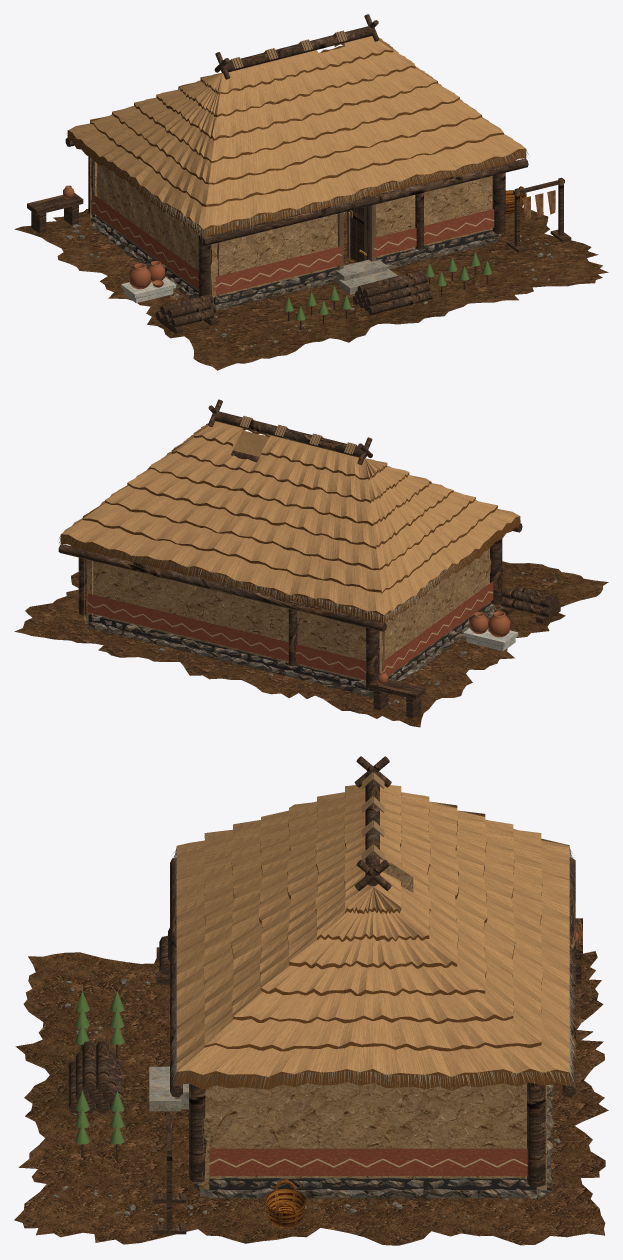
File: forester.glb
The picture shows the model from 3 angles, top to bottom: view 1: azimuth 30°, elevation 25°; view 2: azimuth 150°, elevation 25°; view 3: azimuth 270°, elevation 25°; orthographic projection. The views are drawn at different scales.
Parts seen in each view (by area): view 1: part_20, part_1, part_8, part_5, part_21, part_24, part_4, part_22, part_23, part_25, part_18, part_6 (+4 smaller); view 2: part_20, part_1, part_5, part_8, part_21, part_24, part_4, part_22, part_23, part_15, part_7, part_16; view 3: part_20, part_1, part_5, part_8, part_21, part_24, part_4, part_22, part_23, part_18, part_19, part_25 (+2 smaller).
Boxes of the visible parts, bbox=[...] form: part_20: bbox=[68, 36, 525, 229]; part_1: bbox=[14, 207, 608, 370]; part_8: bbox=[27, 14, 571, 334]; part_5: bbox=[90, 157, 503, 303]; part_21: bbox=[67, 43, 526, 238]; part_24: bbox=[91, 193, 494, 295]; part_4: bbox=[90, 211, 501, 310]; part_22: bbox=[67, 135, 529, 241]; part_23: bbox=[93, 214, 498, 305]; part_25: bbox=[335, 259, 397, 295]; part_18: bbox=[284, 252, 492, 320]; part_6: bbox=[337, 196, 375, 269]; part_20: bbox=[61, 421, 519, 614]; part_1: bbox=[14, 561, 608, 727]; part_5: bbox=[83, 548, 497, 690]; part_8: bbox=[58, 399, 560, 718]; part_21: bbox=[60, 428, 520, 623]; part_24: bbox=[87, 581, 493, 679]; part_4: bbox=[85, 603, 496, 697]; part_22: bbox=[58, 517, 521, 623]; part_23: bbox=[86, 602, 491, 696]; part_15: bbox=[377, 611, 510, 684]; part_7: bbox=[463, 628, 518, 651]; part_16: bbox=[239, 415, 357, 454]; part_20: bbox=[176, 785, 569, 1077]; part_1: bbox=[14, 951, 608, 1245]; part_5: bbox=[199, 859, 546, 1189]; part_8: bbox=[68, 756, 582, 1234]; part_21: bbox=[176, 794, 569, 1090]; part_24: bbox=[209, 1148, 527, 1175]; part_4: bbox=[194, 1084, 554, 1199]; part_22: bbox=[170, 847, 575, 1091]; part_23: bbox=[209, 1178, 545, 1192]; part_18: bbox=[75, 991, 124, 1144]; part_19: bbox=[264, 1180, 306, 1228]; part_25: bbox=[149, 1066, 188, 1111].
Bounding box in the file's own units: 7.42 × 3.47 × 6.33.
26 materials, 16 textured.
